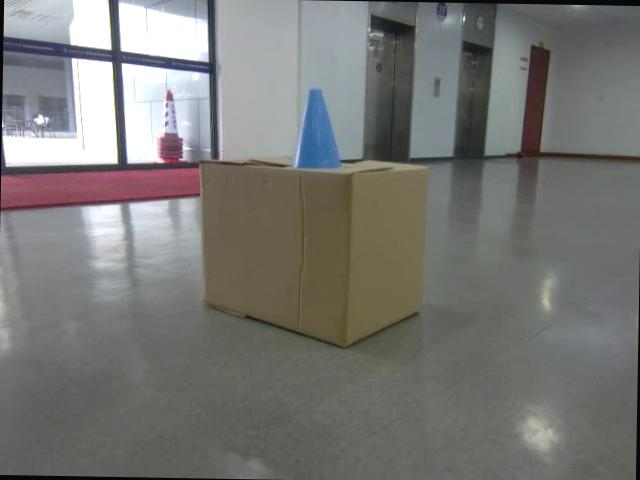blue_barrel: (292, 87, 344, 169)
